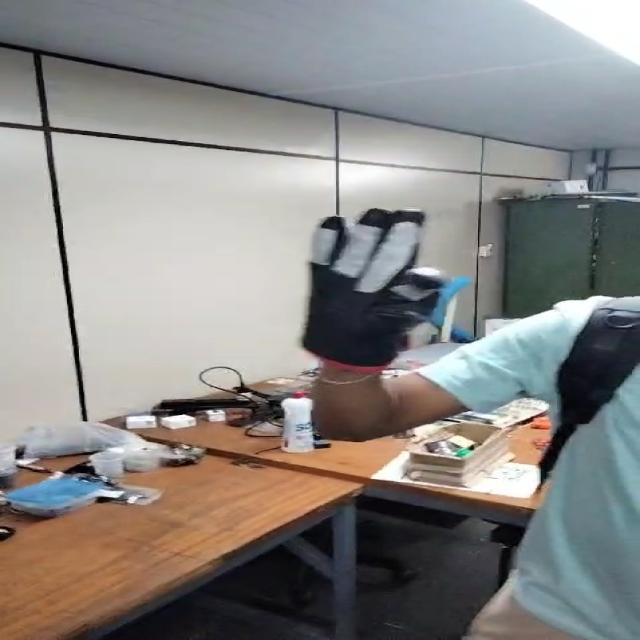Gloves: (301, 207, 455, 367)
